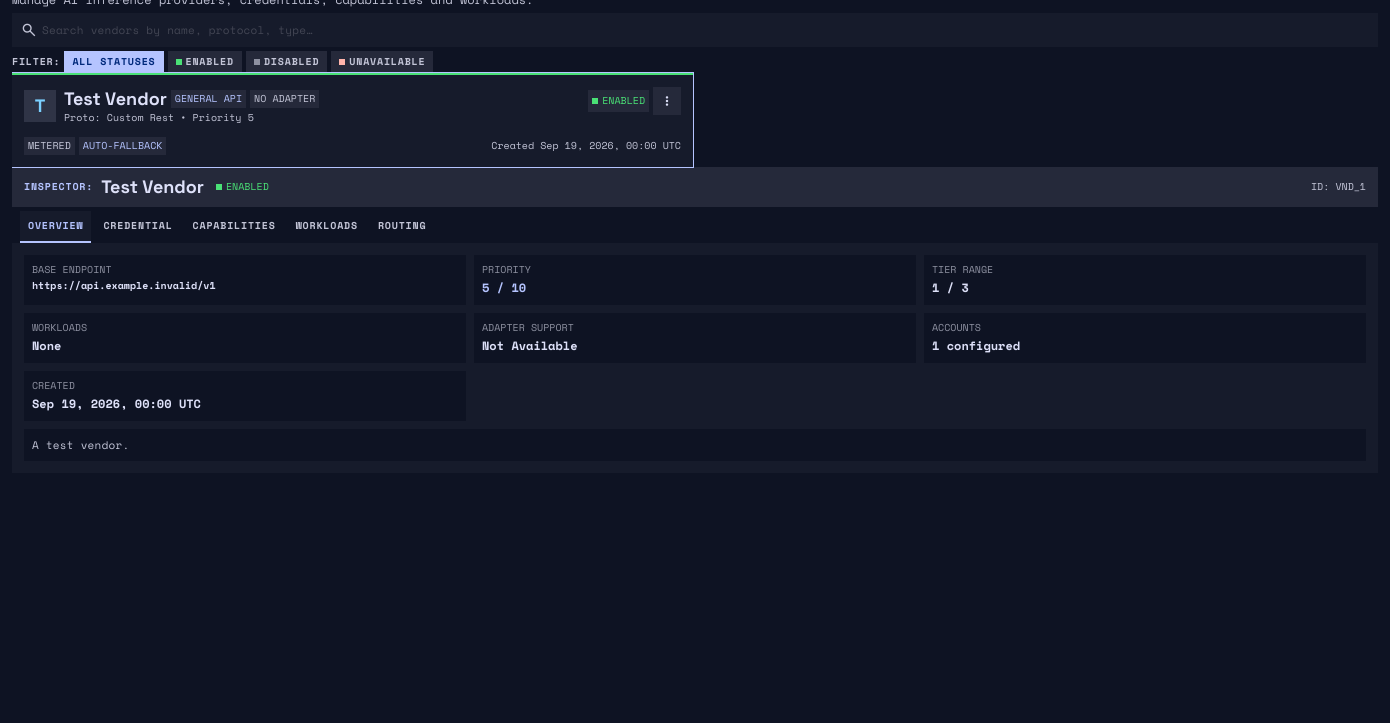
Test: Vendors page — Credential Vault (Block 08) › Add Credential defaults to Inhouse Vault mode and the save button is disabled until a secret is entered
Check: the text "Test Vendor" next to "General Api" is shown, box 64,87 -> 167,110
Click the button "Credential" at [138, 227], box 95,211 -> 181,243
(page scrolled)
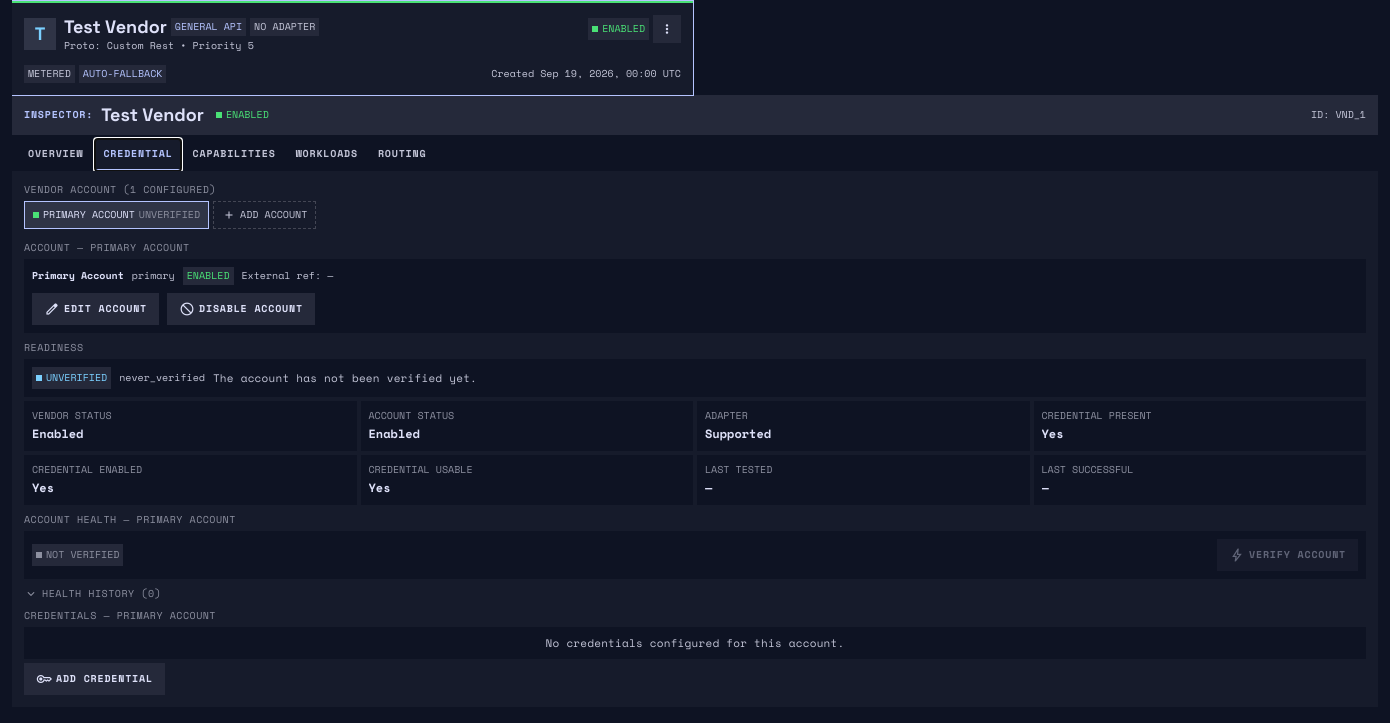
Check: the text "No credentials configured for this account." is shown, box 24,627 -> 1366,659
Click the button "Add Credential" at [94, 679], box 24,663 -> 165,695
(page scrolled)
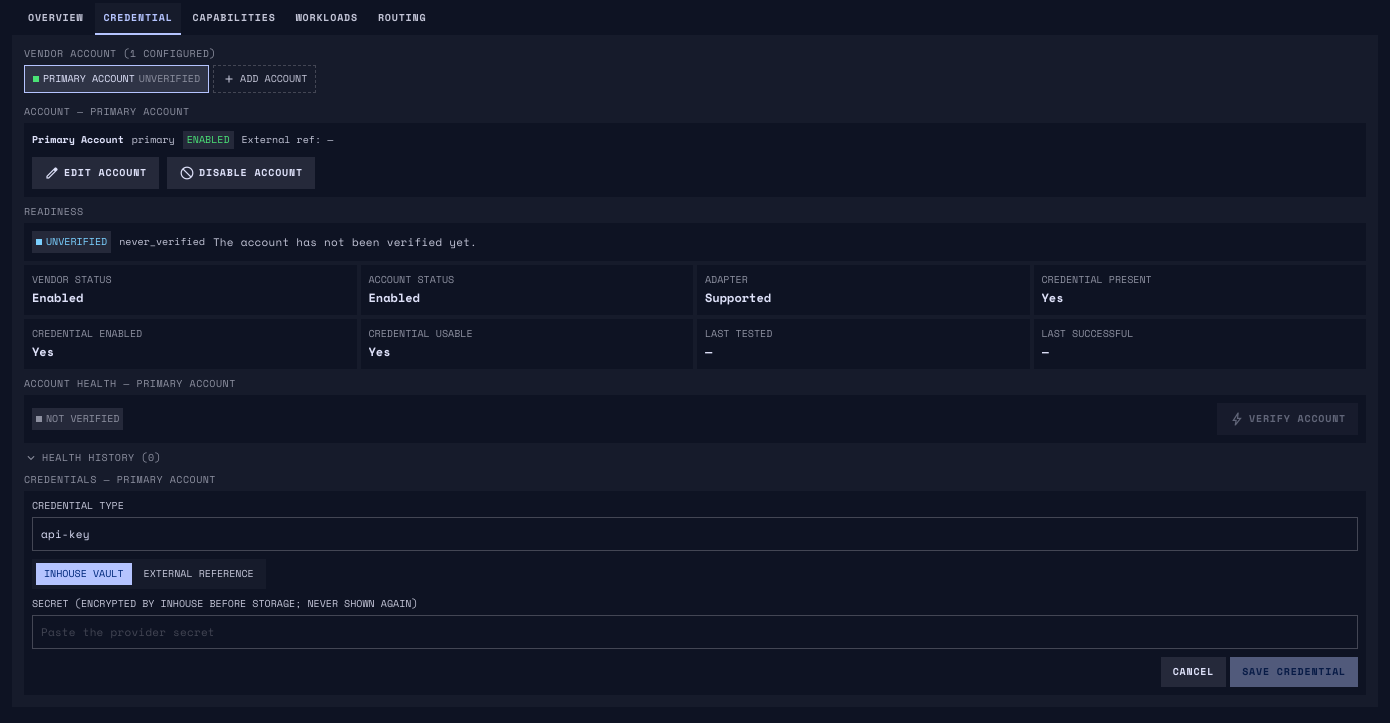
Check: the button "Save Credential" is disabled, box 1230,657 -> 1358,687
Type "sk-raw-secret-value" into the password field with placeholder "Paste the provider secret" at [695, 632], box 32,615 -> 1358,649
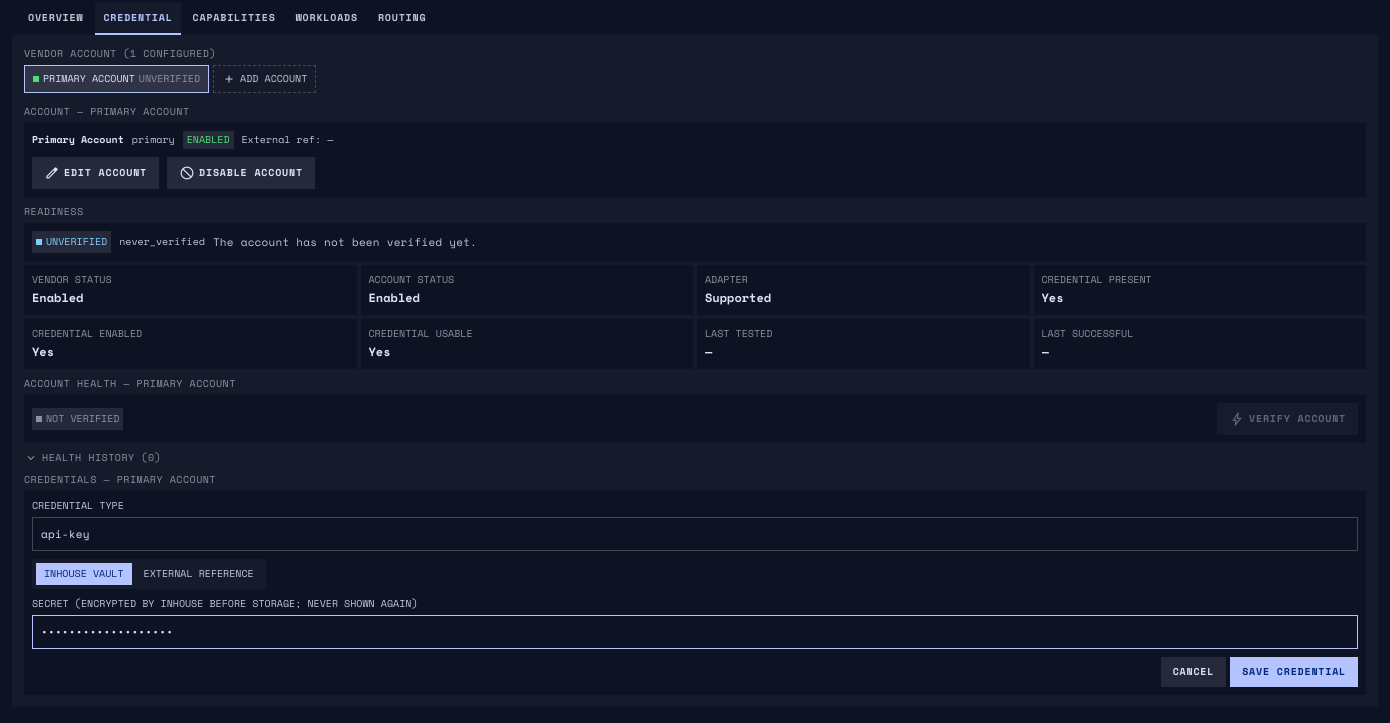
Check: the button "Save Credential" is enabled, box 1230,657 -> 1358,687
